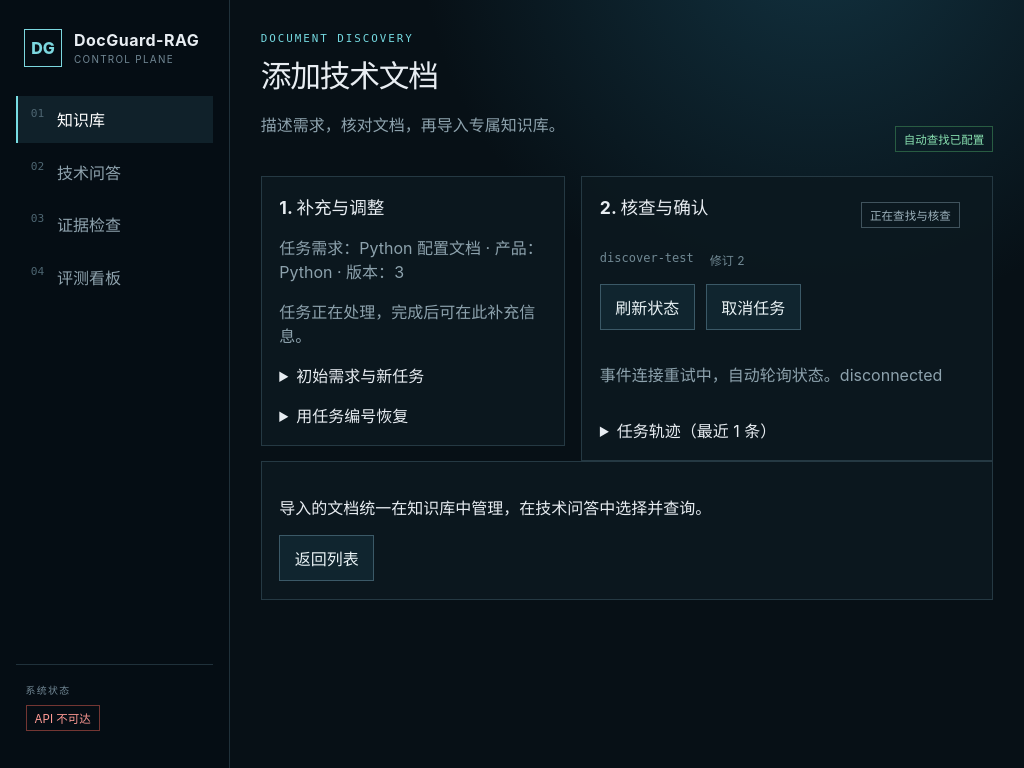
Scenario: reconnects an interrupted event stream from its last event and keeps polling without duplicating events
Click the button "取消任务": x=753, y=307 x1=706 y1=284 x2=801 y2=330
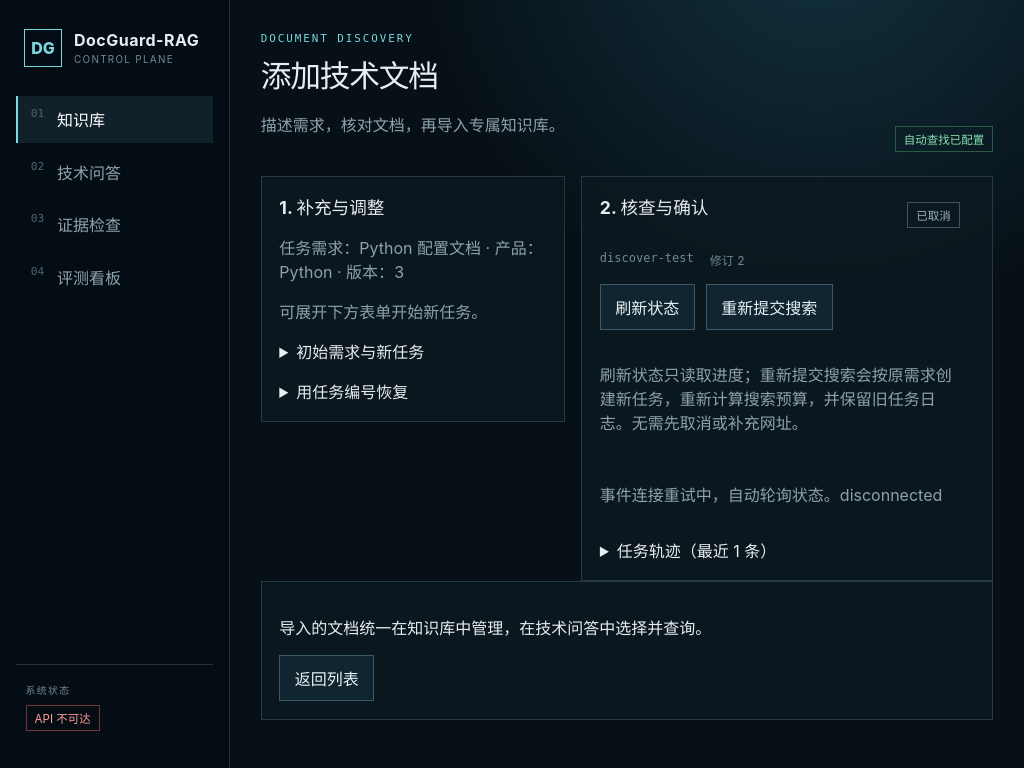
Check: the text "已取消" is shown, box x1=907 y1=202 x2=960 y2=228
